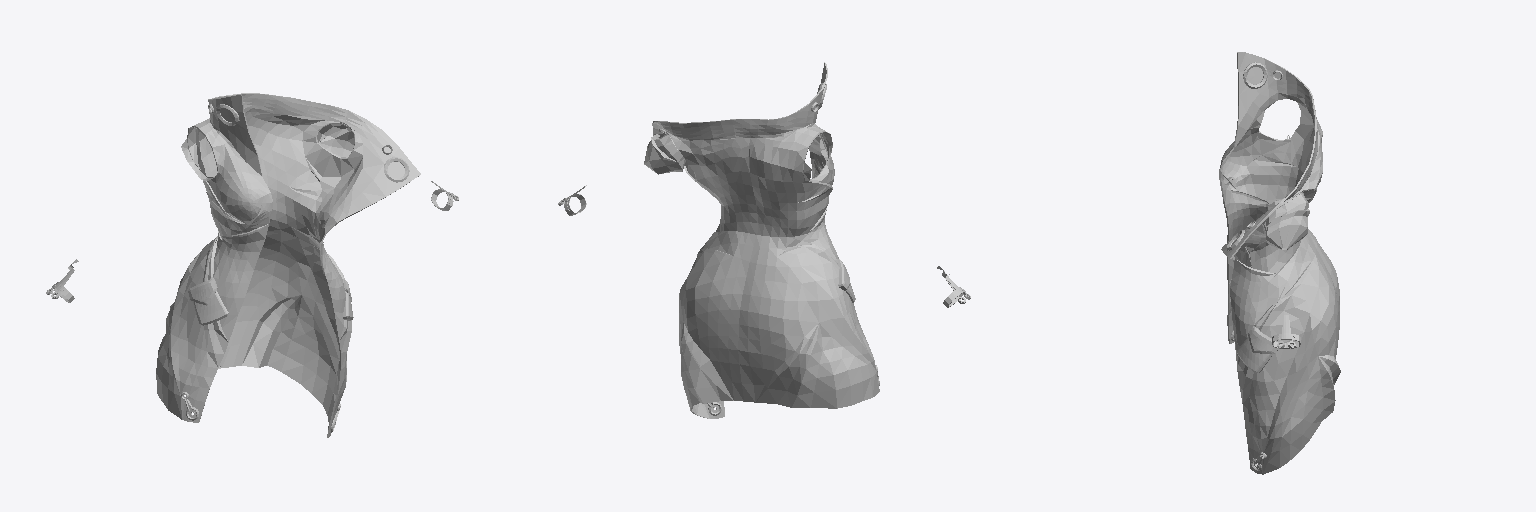
Rendered from cort4.obj.
The picture shows the model from 3 angles: view 1: azimuth 30°, elevation 25°; view 2: azimuth 150°, elevation 25°; view 3: azimuth 270°, elevation 25°; orthographic projection.
Visible parts, largest first — view 1: Jacket_R_mtr_G11_V100.052, Jacket_mtr_G11_V100.051, Bracelet_mtr_G11_V100.043; view 2: Jacket_mtr_G11_V100.051, Jacket_R_mtr_G11_V100.052, Bracelet_mtr_G11_V100.043; view 3: Jacket_R_mtr_G11_V100.052, Jacket_mtr_G11_V100.051.
Boxes of the visible parts, box(x1,y1,x2,y2) form: Jacket_R_mtr_G11_V100.052: box(230, 93, 420, 437); Jacket_mtr_G11_V100.051: box(68, 94, 409, 432); Bracelet_mtr_G11_V100.043: box(46, 181, 458, 302); Jacket_mtr_G11_V100.051: box(654, 62, 949, 415); Jacket_R_mtr_G11_V100.052: box(644, 119, 757, 418); Bracelet_mtr_G11_V100.043: box(558, 185, 970, 307); Jacket_R_mtr_G11_V100.052: box(1221, 106, 1340, 474); Jacket_mtr_G11_V100.051: box(1219, 52, 1339, 470).
Size of the model in its own units: 0.8481 by 0.7429 by 0.2201.